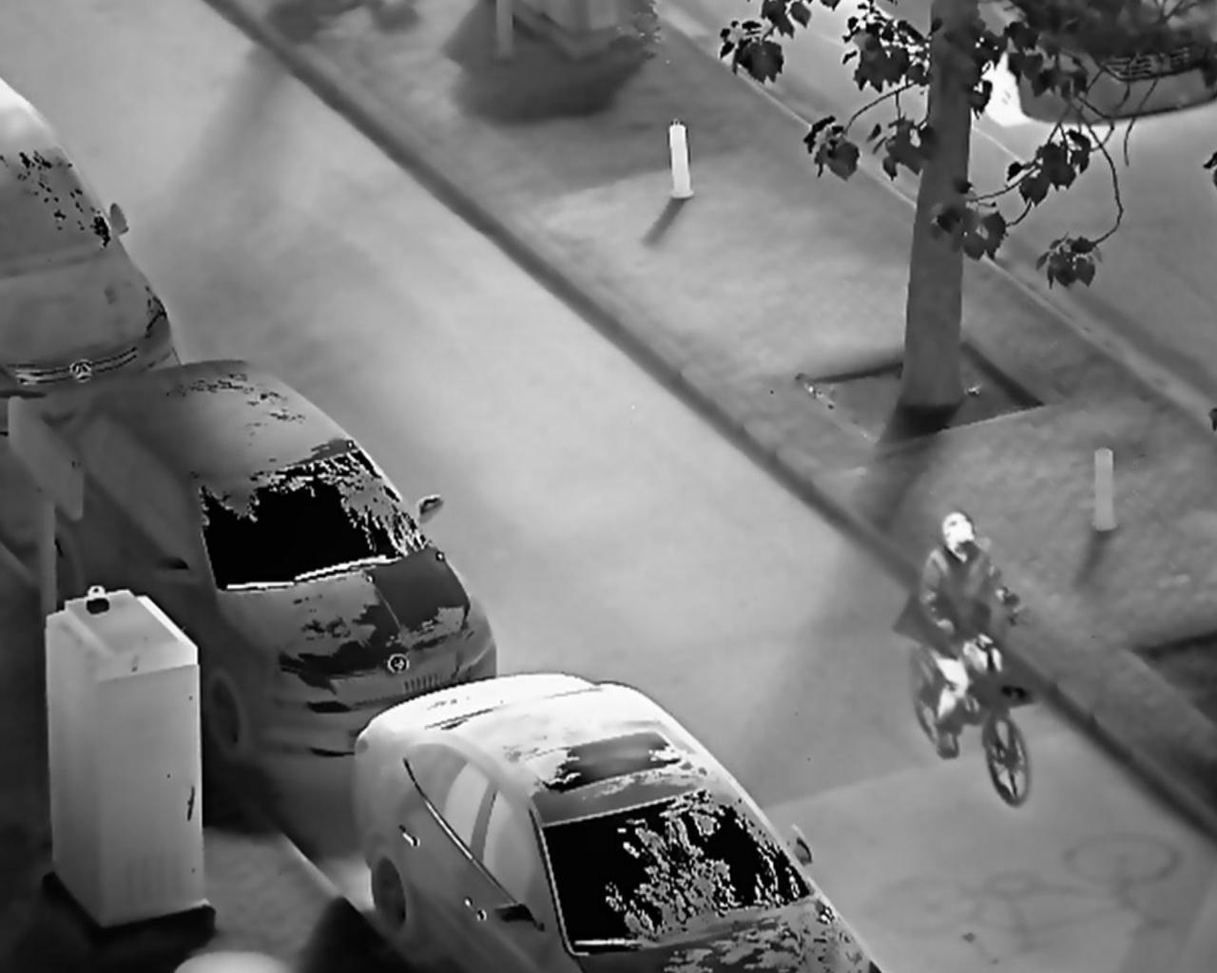person: (917, 507, 1029, 762)
